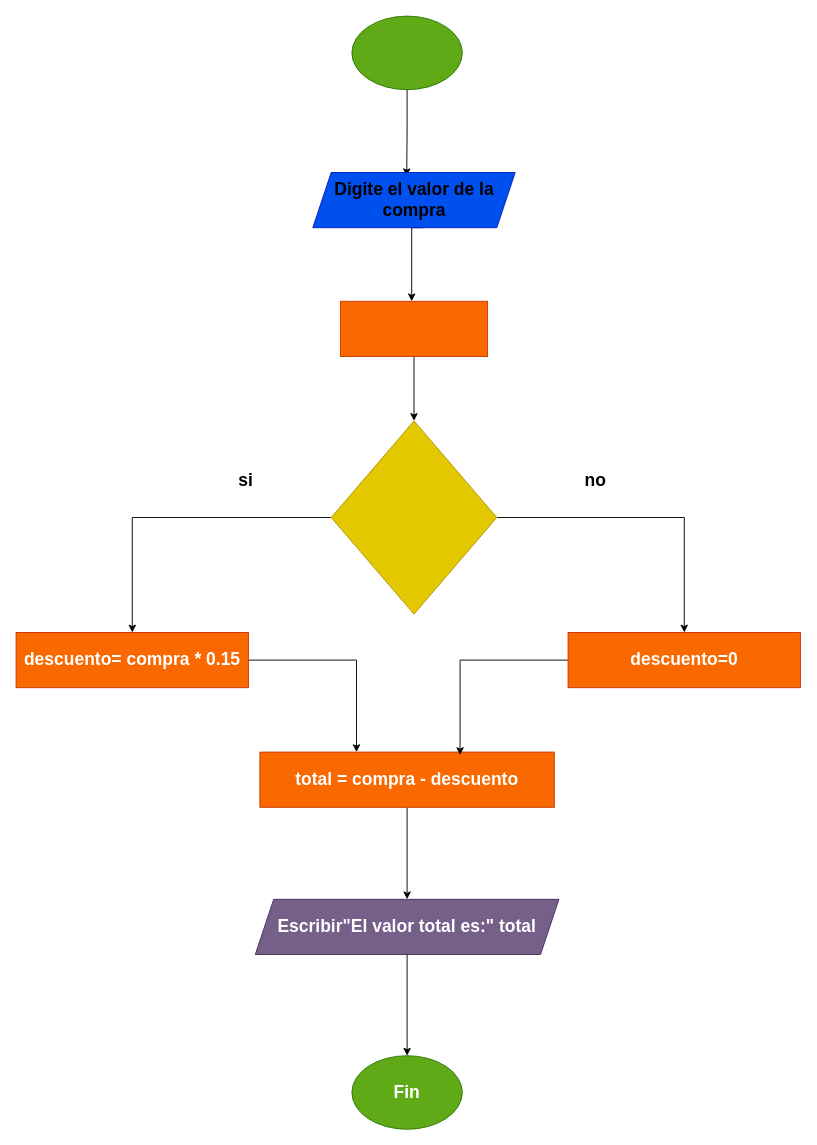
Image size: 817x1145. Some labels were removed from this diagram. The shapes that lost their labels are listed below. From the top down, each one's centre as x and y in pixels, then its label:
At [406,52]: "Inicio".
At [413,328]: "Leer compra".
At [413,517]: "La compra es mayor de 100,000".
